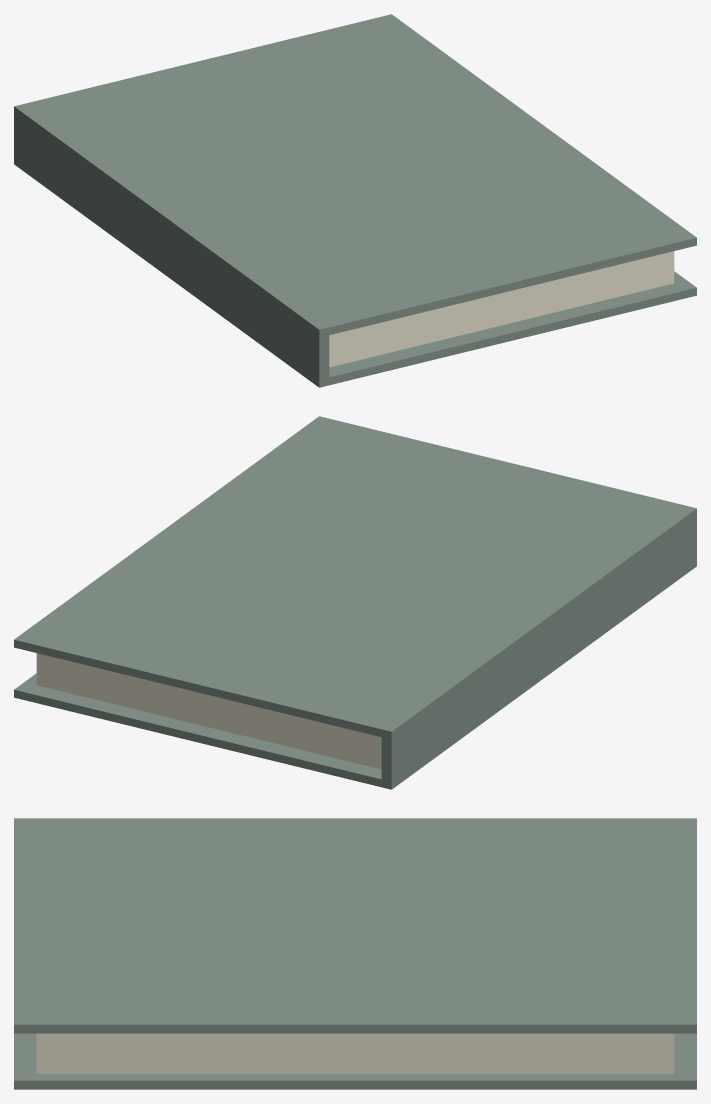
File: notebook.glb
3 views of the same model, one above another, from view 1: azimuth 30°, elevation 25°; view 2: azimuth 150°, elevation 25°; view 3: azimuth 270°, elevation 25° (orthographic). The views are drawn at different scales.
Parts seen in each view (by area): view 1: notebook; view 2: notebook; view 3: notebook.
Boxes of the visible parts, <box> form: notebook: <box>14,14,696,387</box>; notebook: <box>14,416,696,789</box>; notebook: <box>14,818,696,1089</box>.
Size of the model in its own units: 0.15 by 0.022 by 0.21.
